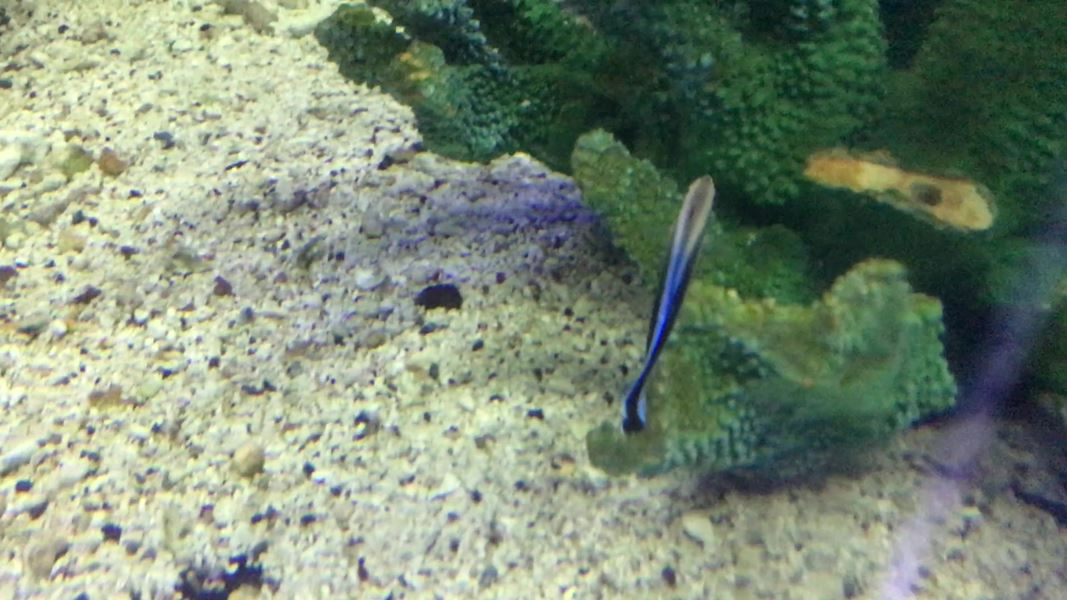Bluesteak cleaner wrasse: (601, 164, 721, 447)
